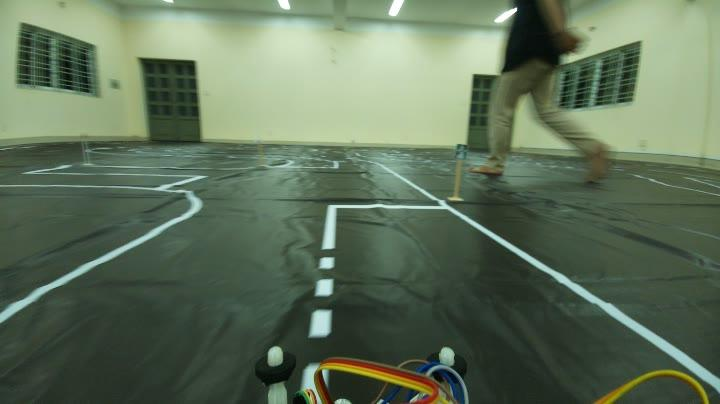highway_exit: (450, 141, 470, 163)
